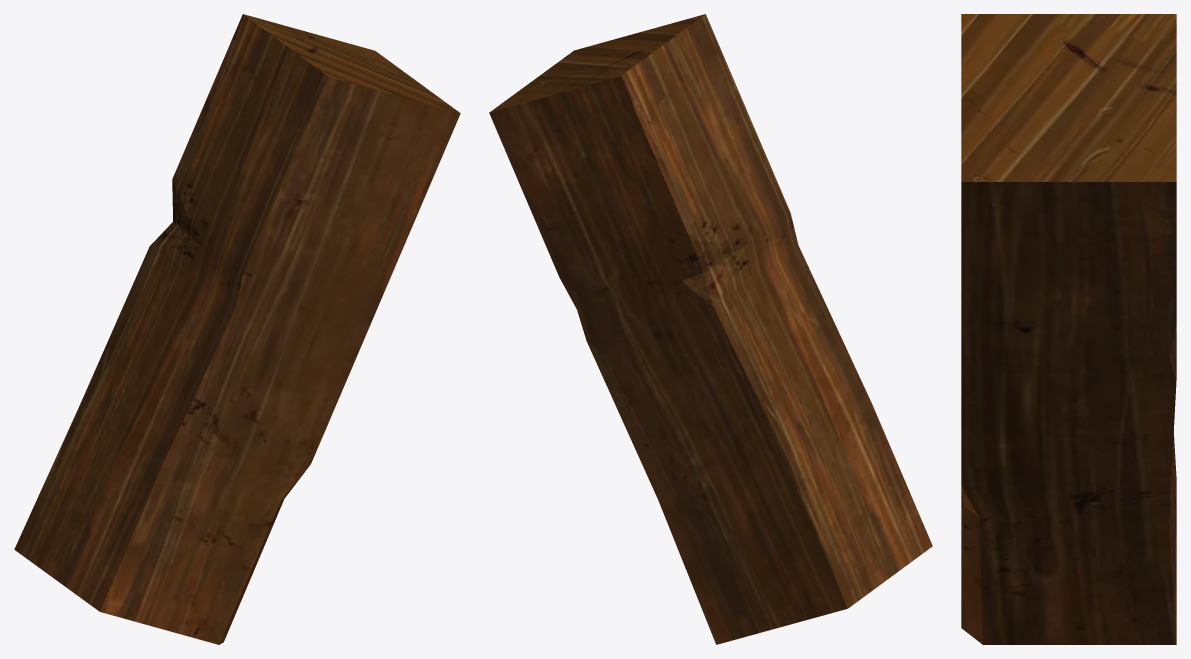
3 views of the same model, side by side, from view 1: azimuth 30°, elevation 25°; view 2: azimuth 150°, elevation 25°; view 3: azimuth 270°, elevation 25° (orthographic). The views are drawn at different scales.
Visible parts, largest first — view 1: SM_BB_T2_Beam_Thick_Medium_Steep_LOD0; view 2: SM_BB_T2_Beam_Thick_Medium_Steep_LOD0; view 3: SM_BB_T2_Beam_Thick_Medium_Steep_LOD0.
Part boxes in pixels (x1,y1,x2,y2): SM_BB_T2_Beam_Thick_Medium_Steep_LOD0: (14, 14, 460, 644); SM_BB_T2_Beam_Thick_Medium_Steep_LOD0: (489, 14, 932, 644); SM_BB_T2_Beam_Thick_Medium_Steep_LOD0: (961, 14, 1176, 644).
Size of the model in its own units: 1.19 by 1.72 by 0.4873.
1 material, 1 textured.
